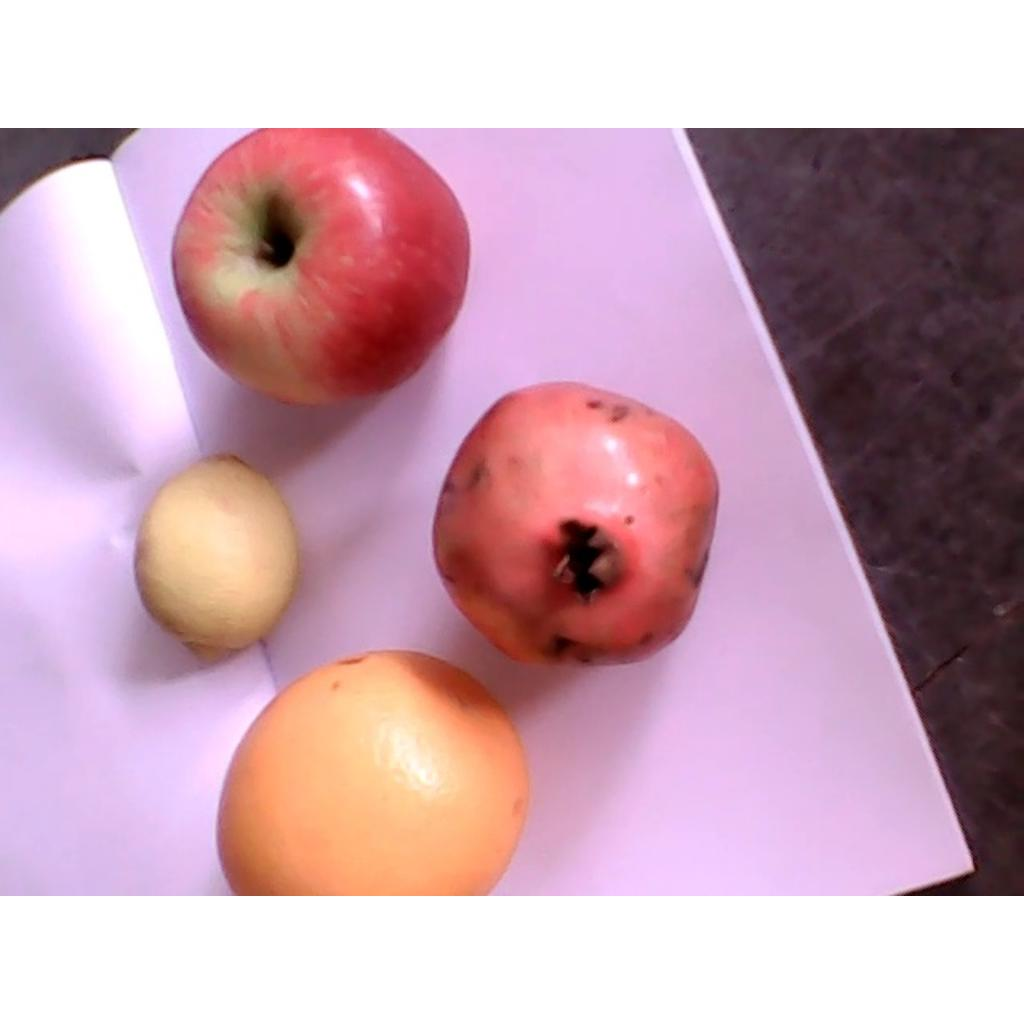apple: (168, 128, 471, 411)
lemon: (134, 454, 302, 670)
orange: (214, 649, 529, 894)
pomegranate: (437, 380, 718, 670)
